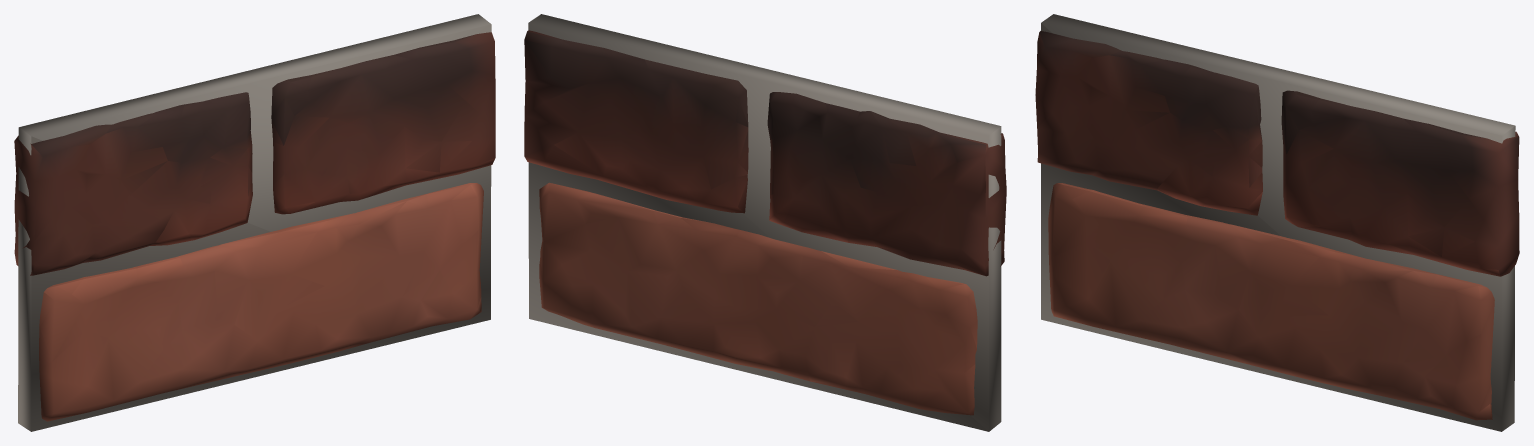
File: ember_brick_wall_d_lod2.glb
The picture shows the model from 3 angles, left to right: view 1: azimuth 30°, elevation 25°; view 2: azimuth 150°, elevation 25°; view 3: azimuth 330°, elevation 25°; orthographic projection.
Parts seen in each view (by area): view 1: ember_brick_wall_d.001; view 2: ember_brick_wall_d.001; view 3: ember_brick_wall_d.001.
Boxes of the visible parts, box(x1,y1,x2,y2) form: ember_brick_wall_d.001: box(14, 14, 495, 431); ember_brick_wall_d.001: box(524, 14, 1006, 431); ember_brick_wall_d.001: box(1035, 14, 1519, 431).
Size of the model in its own units: 65.02 by 40 by 5.63.
